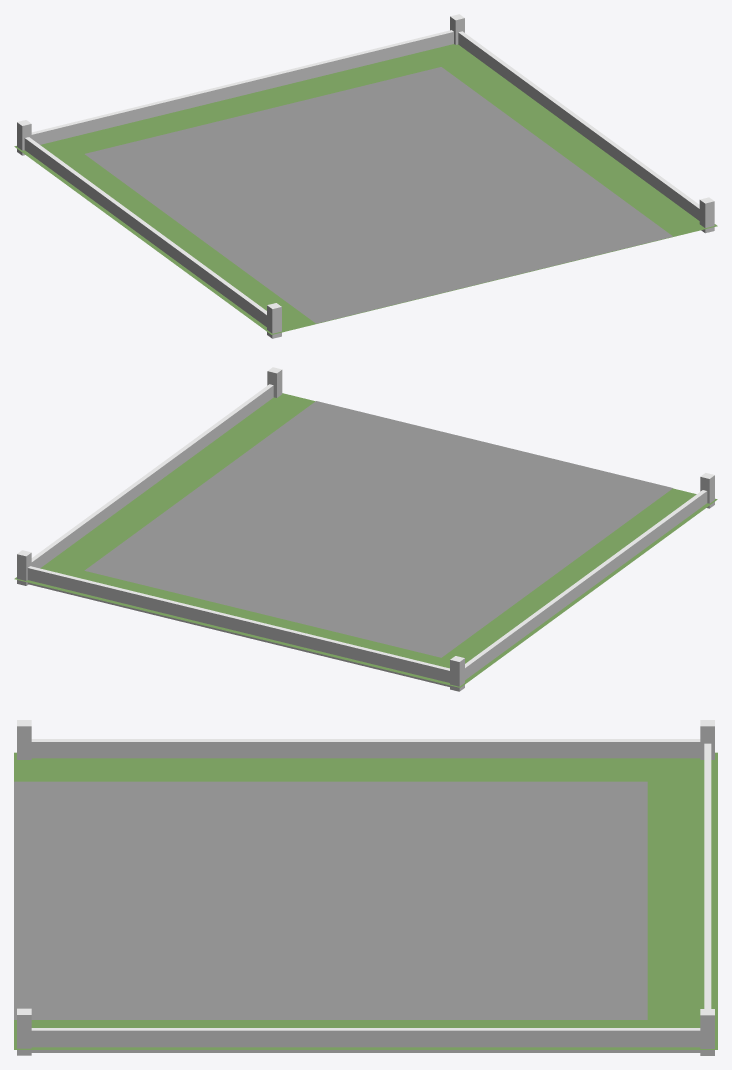
File: tile_for_home_1x1_012.fbx
The picture shows the model from 3 angles, top to bottom: view 1: azimuth 30°, elevation 25°; view 2: azimuth 150°, elevation 25°; view 3: azimuth 270°, elevation 25°; orthographic projection. The views are drawn at different scales.
Parts seen in each view (by area): view 1: tile_for_home_1x1_012; view 2: tile_for_home_1x1_012; view 3: tile_for_home_1x1_012.
Part boxes in pixels (box(x1,y1,x2,y2)): tile_for_home_1x1_012: box(14, 14, 717, 338); tile_for_home_1x1_012: box(14, 367, 717, 691); tile_for_home_1x1_012: box(14, 720, 717, 1055).
Bounding box in the file's own units: 800 × 50.88 × 800.
